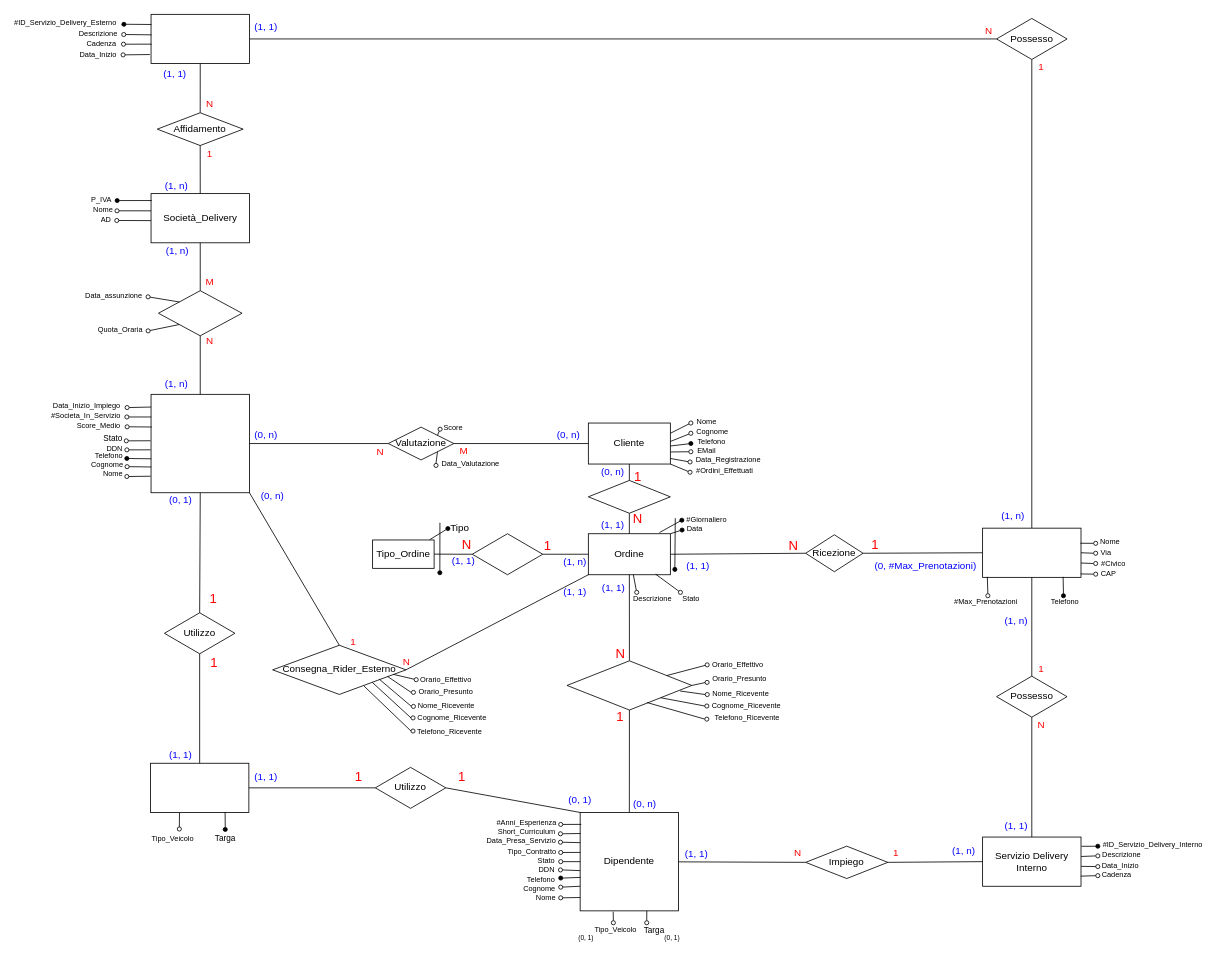
Some shapes in this 1217 by 957 pixel diagram are drawn without their labels. Here are the shapes that lost their labels. From the top down, the centre of each, then its label:
At point (199, 39): "Servizio Delivery Esterno".
At point (200, 313): "Dipendenza".
At point (199, 443): "Rider Esterno".
At point (629, 496): "Effettuazione".
At point (507, 554): "Composizione".
At point (1031, 552): "Ristorante".
At point (629, 685): "Consegna_Dipendente".
At point (199, 787): "Veicolo".
